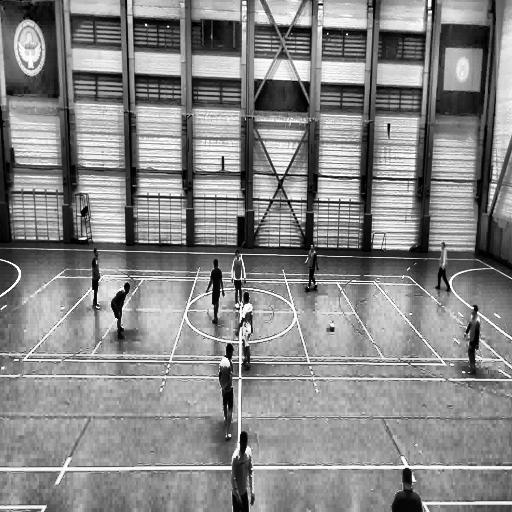ball: (330, 322, 335, 331)
player: (232, 432, 254, 512), (220, 342, 234, 440), (237, 290, 253, 370), (206, 258, 224, 325), (464, 304, 479, 375), (433, 239, 452, 291), (113, 282, 130, 339), (231, 248, 246, 311), (302, 242, 319, 291), (92, 250, 100, 309)
